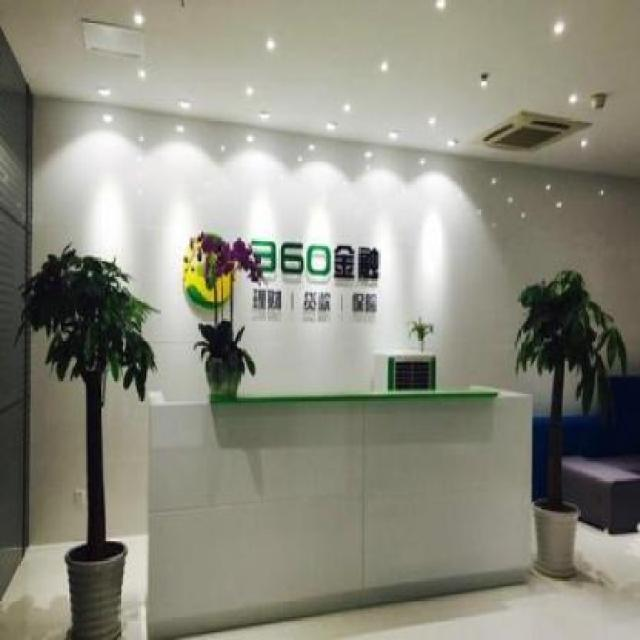frontdesk: (132, 375, 538, 640)
